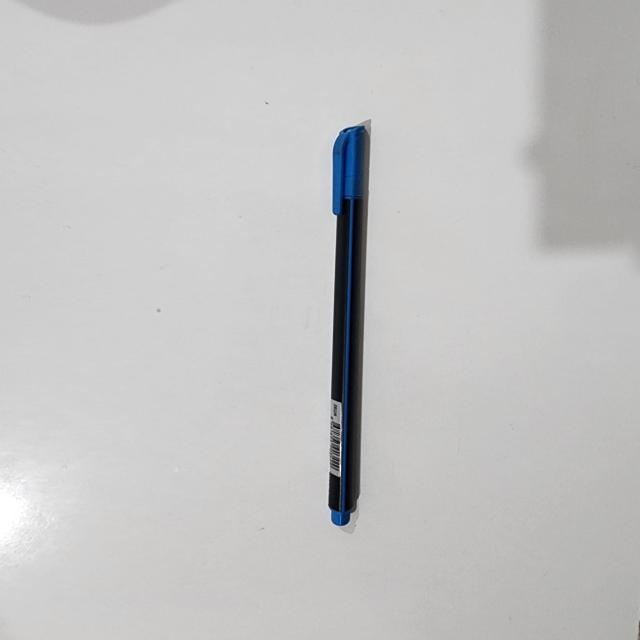kalem1: (327, 126, 367, 526)
